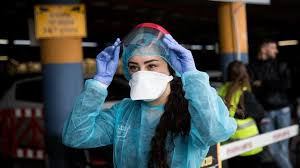with_mask: (120, 36, 186, 107)
without_mask: (258, 38, 278, 60)
